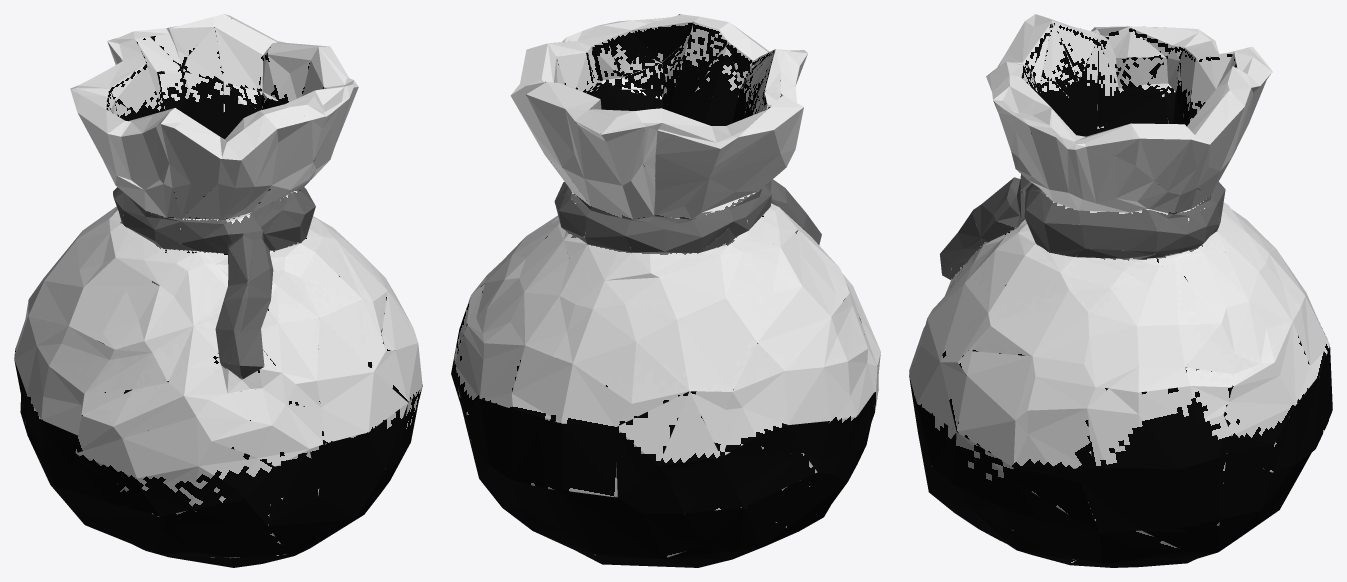
3 views of the same model, side by side, from view 1: azimuth 30°, elevation 25°; view 2: azimuth 150°, elevation 25°; view 3: azimuth 270°, elevation 25° (orthographic). The views are drawn at different scales.
Parts seen in each view (by area): view 1: OBJ086; view 2: OBJ086; view 3: OBJ086.
Part boxes in pixels (box(x1,y1,x2,y2)): OBJ086: box(14, 14, 422, 567); OBJ086: box(451, 14, 880, 567); OBJ086: box(909, 14, 1332, 567).
Bounding box in the file's own units: 0.1705 × 0.2111 × 0.1693.
Materials: 1 (1 with a texture image).
